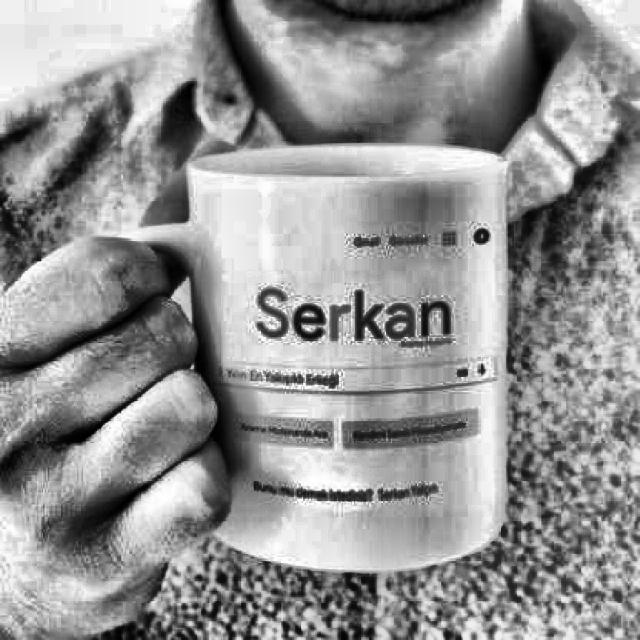Mug: (111, 140, 512, 574)
